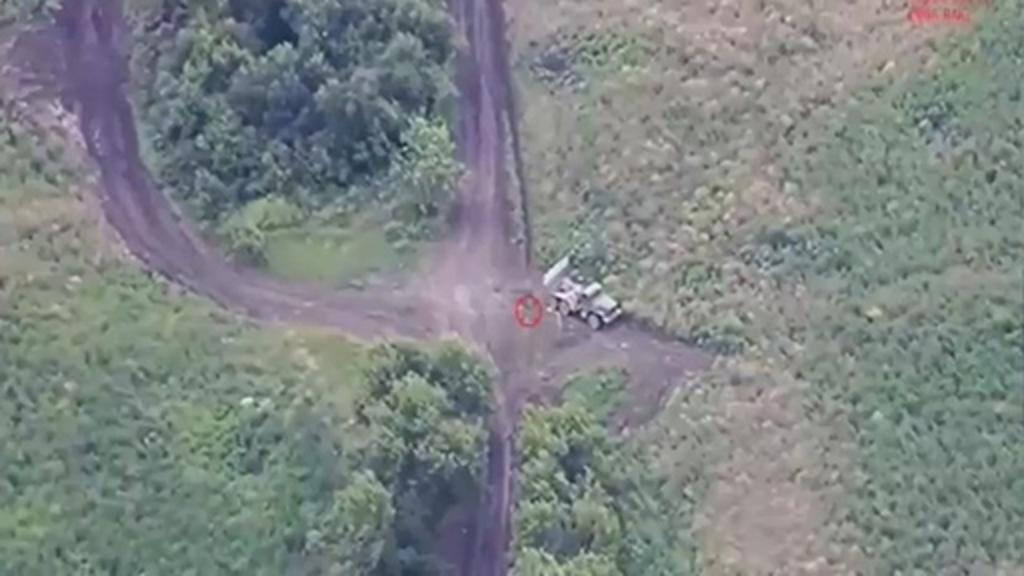MLRS: (536, 248, 622, 330)
